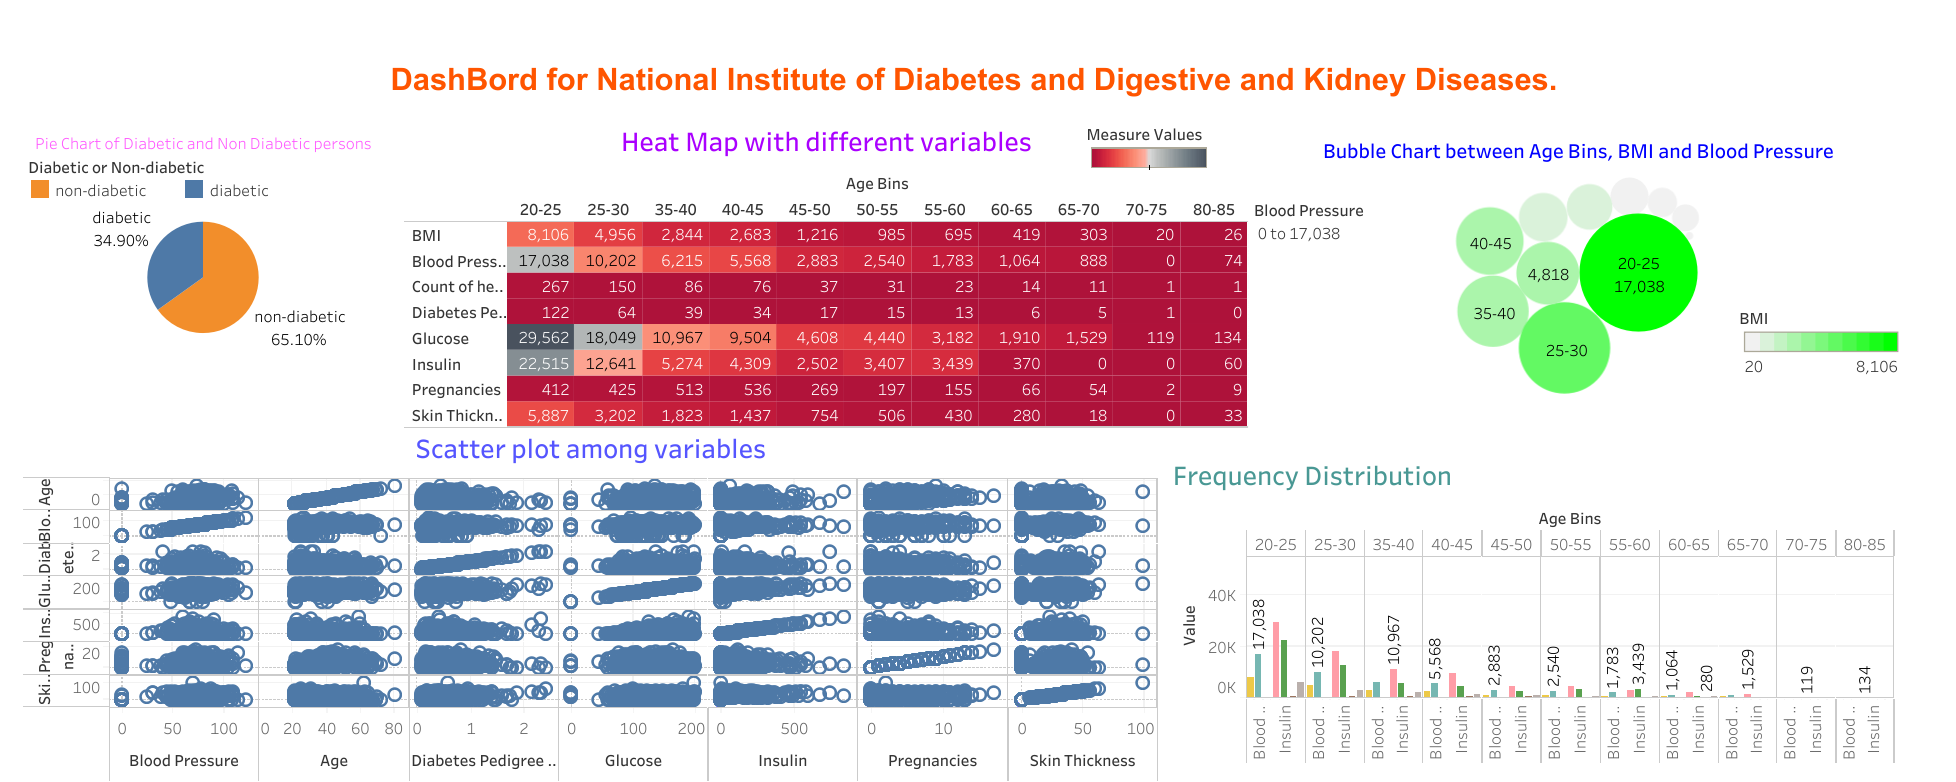

This screenshot's page, from the dashboard's own definition file:
{"tool":"tableau","page":{"name":"Dashboard 1","canvas":[1000,1000],"units":"permille","ordinal":0},"visuals":[{"type":"text","box":[0.6,52.9,993.8,97.5]},{"type":"worksheet","title":"Heat Map","mark":"Square","cols":["Calculation_591941888899932163"],"box":[206.5,145.7,431.5,401.9]},{"type":"legend","title":"Heat Map","param":"[federated.19axxew0g9brcw1387p7u1rdw9lt].[Multiple Values]","box":[555.5,150.4,64.5,69.3]},{"type":"worksheet","title":"Bubble Chart between Age Bins, BMI and Blood Pressure","mark":"Circle","box":[639.2,164.5,334.8,339.6]},{"type":"legend","title":"Pie Chart","param":"[federated.19axxew0g9brcw1387p7u1rdw9lt].[none:Calculation_573646015236255744:nk","box":[13.6,193.9,165.5,70.5]},{"type":"filter","title":"Bubble Chart between Age Bins, BMI and Blood Pressure","param":"[federated.19axxew0g9brcw1387p7u1rdw9lt].[sum:BloodPressure:qk]","box":[641,251.5,80,111.6]},{"type":"legend","title":"Bubble Chart between Age Bins, BMI and Blood Pressure","param":"[federated.19axxew0g9brcw1387p7u1rdw9lt].[sum:BMI:qk]","box":[889,384.2,84.3,124.6]},{"type":"worksheet","title":"Scatter plot among variables","mark":"Automatic","rows":["Age","BloodPressure","DiabetesPedigreeFunction","Glucose","Insulin","Pregnancies","SkinThickness"],"cols":["BloodPressure","Age","DiabetesPedigreeFunction","Glucose","Insulin","Pregnancies","SkinThickness"],"box":[11.8,539.4,580.3,458.3]},{"type":"worksheet","title":"Frequency Distribution","mark":"Automatic","cols":["Calculation_591941888899932163"],"box":[597,573.4,372,404.2]}]}

Visuals, with their boxes on the dashboard's canvas, which has no fixed pixel size, in thousandths of its width and height (x1, y1, x2, y2). These are canvas units, not pixel positions in the 1956x782 screenshot, which may show the page scaled, cropped or inside an application window:
text: [x1=1, y1=53, x2=994, y2=150]
"Heat Map" worksheet (Square marks): [x1=206, y1=146, x2=638, y2=548]
"Heat Map" legend: [x1=556, y1=150, x2=620, y2=220]
"Bubble Chart between Age Bins, BMI and Blood Pressure" worksheet (Circle marks): [x1=639, y1=164, x2=974, y2=504]
"Pie Chart" legend: [x1=14, y1=194, x2=179, y2=264]
"Bubble Chart between Age Bins, BMI and Blood Pressure" filter: [x1=641, y1=252, x2=721, y2=363]
"Bubble Chart between Age Bins, BMI and Blood Pressure" legend: [x1=889, y1=384, x2=973, y2=509]
"Scatter plot among variables" worksheet: [x1=12, y1=539, x2=592, y2=998]
"Frequency Distribution" worksheet: [x1=597, y1=573, x2=969, y2=978]
